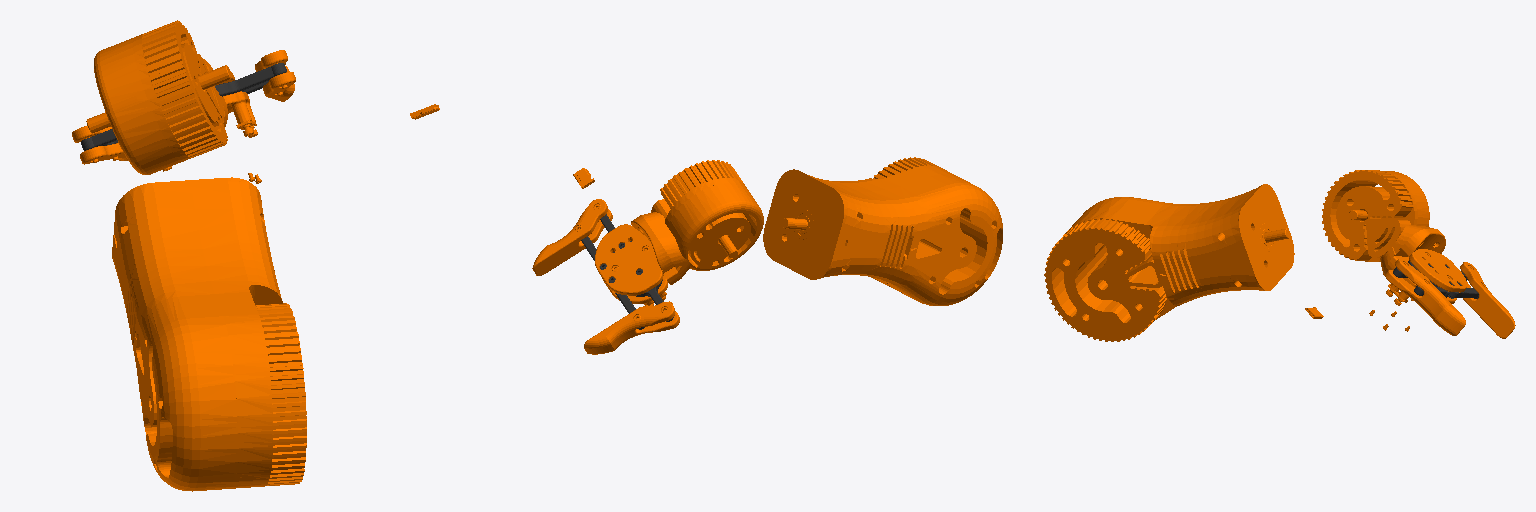
URDF robot description (moveo_urdf):
<?xml version='1.0'?>
<robot name="moveo_urdf">

  <link name="base_link">
    <visual>
      <origin xyz="0 0 0.13" rpy="0 0 0" />
      <geometry>
        <mesh filename="meshes/base_link.obj" />
      </geometry>
      <material name="black_override">
        <color rgba="0.25 0.25 0.25 1"/>
      </material>
    </visual>
    <collision>
      <origin xyz="0 0 0.13" rpy="0 0 0" />
      <geometry>
        <box size="0.30 0.30 0.26" />
      </geometry>
    </collision>
  </link>

  <link name="odom">
    <inertial>
      <origin xyz="0.034155 -0.20591 -0.049641" rpy="0 0 0" />
      <mass value="8.0643" />
      <inertia
        ixx="0.11291"
        ixy="0.00066071"
        ixz="-0.00030472"
        iyy="0.089946"
        iyz="0.011461"
        izz="0.19187" />
    </inertial>
  </link>

  <joint name="odom_joint" type="fixed">
    <origin xyz="0 0 0" rpy="0 0 0" />
    <parent link="base_link" />
    <child link="odom" />
  </joint>

  <link name="Link_1">
    <inertial>
      <origin xyz="4.0186E-05 0.090634 0.00010221" rpy="0 0 0" />
      <mass value="4.2526" />
      <inertia
        ixx="0.0034071"
        ixy="8.9041E-06"
        ixz="1.179E-07"
        iyy="0.018642"
        iyz="-3.6544E-06"
        izz="0.021987" />
    </inertial>
    <visual>
      <origin xyz="0 0 0" rpy="0 0 0" />
      <geometry>
        <mesh filename="meshes/Link_1.obj" />
      </geometry>
      <material name="orange">
        <color rgba="1 0.5 0 1" />
      </material>
    </visual>
    <collision>
      <origin xyz="0 0.09 0" rpy="0 0 0" />
      <geometry>
        <cylinder radius="0.05" length="0.22" />
      </geometry>
    </collision>
  </link>

  <joint name="Joint_1" type="revolute">
    <origin xyz="0 -0.2425 0.13" rpy="1.5708 9.5417E-17 2.7766" />
    <parent link="base_link" />
    <child link="Link_1" />
    <axis xyz="0 1 0" />
    <limit lower="-1.5707" upper="1.5707" effort="5" velocity="1" />
  </joint>

  <link name="Link_2">
    <inertial>
      <origin xyz="2.2815E-05 0.0017616 -0.080002" rpy="0 0 0" />
      <mass value="1.9323" />
      <inertia
        ixx="0.012138"
        ixy="-3.5576E-06"
        ixz="-9.0632E-06"
        iyy="0.011445"
        iyz="0.00014273"
        izz="0.00070271" />
    </inertial>
    <visual>
      <origin xyz="0 0 0" rpy="0 0 0" />
      <geometry>
        <mesh filename="meshes/Link_2.obj" />
      </geometry>
      <material name="black_override">
        <color rgba="0.25 0.25 0.25 1"/>
      </material>
    </visual>
    <collision>
      <origin xyz="0 0 -0.08" rpy="0 0 0" />
      <geometry>
        <box size="0.08 0.08 0.24" />
      </geometry>
    </collision>
  </link>

  <joint name="Joint_2" type="revolute">
    <origin xyz="0 0.18264 0" rpy="-3.1416 0.95134 1.5708" />
    <parent link="Link_1" />
    <child link="Link_2" />
    <axis xyz="0 -1 0" />
    <limit lower="-1.5707" upper="1.5707" effort="5" velocity="1" />
  </joint>

  <link name="Link_3">
    <inertial>
      <origin xyz="0.05095 -0.00039084 -0.00045591" rpy="0 0 0" />
      <mass value="1.1381" />
      <inertia
        ixx="0.00023572"
        ixy="-3.8425E-06"
        ixz="4.1286E-06"
        iyy="0.00029123"
        iyz="-1.0387E-07"
        izz="0.00052457" />
    </inertial>
    <visual>
      <origin xyz="0 0 0" rpy="0 0 0" />
      <geometry>
        <mesh filename="meshes/Link_3.obj" />
      </geometry>
      <material name="orange">
        <color rgba="1 0.5 0 1" />
      </material>
    </visual>
    <collision>
      <origin xyz="0.05 0 0" rpy="0 0 0" />
      <geometry>
        <box size="0.18 0.05 0.05" />
      </geometry>
    </collision>
  </link>

  <joint name="Joint_3" type="revolute">
    <origin xyz="0 0 -0.22112" rpy="-3.1416 0.98126 -3.1416" />
    <parent link="Link_2" />
    <child link="Link_3" />
    <axis xyz="0 -1 0" />
    <limit lower="-1.5707" upper="1.5707" effort="5" velocity="1" />
  </joint>

  <link name="Link_4">
    <inertial>
      <origin xyz="-0.0027417 0.0025097 0.012864" rpy="0 0 0" />
      <mass value="0.62964" />
      <inertia
        ixx="0.0001717"
        ixy="1.3446E-06"
        ixz="8.5164E-06"
        iyy="0.00010506"
        iyz="5.1412E-05"
        izz="7.8944E-05" />
    </inertial>
    <visual>
      <origin xyz="0 0 0" rpy="0 0 0" />
      <geometry>
        <mesh filename="meshes/Link_4.obj" />
      </geometry>
      <material name="black_override">
        <color rgba="0.25 0.25 0.25 1"/>
      </material>
    </visual>
    <collision>
      <origin xyz="0 0 0.01" rpy="0 0 0" />
      <geometry>
        <box size="0.08 0.05 0.08" />
      </geometry>
    </collision>
  </link>

  <joint name="Joint_4" type="revolute">
    <origin xyz="0.16988 -0.00099213 0" rpy="3.1416 -1.2279 1.5708" />
    <parent link="Link_3" />
    <child link="Link_4" />
    <axis xyz="0.010353 -0.99993 -0.0059382" />
    <limit lower="-1.5707" upper="1.5707" effort="5" velocity="1" />
  </joint>

  <link name="Link_5">
    <inertial>
      <origin xyz="-0.011366 0.00012239 0.0078967" rpy="0 0 0" />
      <mass value="0.19875" />
      <inertia
        ixx="6.2676E-05"
        ixy="4.2551E-06"
        ixz="4.0215E-05"
        iyy="9.7792E-05"
        iyz="8.5888E-07"
        izz="9.5807E-05" />
    </inertial>
    <visual>
      <origin xyz="0 0 0" rpy="0 0 0" />
      <geometry>
        <mesh filename="meshes/Link_5.obj" />
      </geometry>
      <material name="orange">
        <color rgba="1 0.5 0 1" />
      </material>
    </visual>
    <collision>
      <origin xyz="0 0 0.01" rpy="0 0 0" />
      <geometry>
        <box size="0.10 0.05 0.05" />
      </geometry>
    </collision>
  </link>

  <joint name="Joint_5" type="revolute">
    <origin xyz="-0.0021346 0.053041 0.0016936" rpy="-1.5639 -0.091135 -0.00062919" />
    <parent link="Link_4" />
    <child link="Link_5" />
    <axis xyz="0 1 0" />
    <limit lower="-1.5707" upper="1.5707" effort="5" velocity="1" />
  </joint>

  <link name="Gripper_Servo_Gear">
    <inertial>
      <origin xyz="-0.0063957 -0.0033021 -0.00082714" rpy="0 0 0" />
      <mass value="0.0048997" />
      <inertia
        ixx="2.0097E-09"
        ixy="-3.0673E-09"
        ixz="-6.3297E-10"
        iyy="4.9761E-09"
        iyz="-3.9668E-10"
        izz="6.8221E-09" />
    </inertial>
    <visual>
      <origin xyz="0 0 0" rpy="0 0 0" />
      <geometry>
        <mesh filename="meshes/Gripper_Servo_Gear.obj" />
      </geometry>
      <material name="black_override">
        <color rgba="0.25 0.25 0.25 1"/>
      </material>
    </visual>
    <collision>
      <origin xyz="0 0 0" rpy="0 0 0" />
      <geometry>
        <box size="0.03 0.03 0.02" />
      </geometry>
    </collision>
  </link>

  <joint name="Gripper_Servo_Gear_Joint" type="revolute">
    <origin xyz="-0.05013 0.01413 0.041516" rpy="0.9321 0.032705 -1.5268" />
    <parent link="Link_5" />
    <child link="Gripper_Servo_Gear" />
    <axis xyz="0 1 0" />
    <limit lower="0" upper="0.85" effort="5" velocity="1" />
  </joint>

  <link name="Tip_Gripper_Servo">
    <inertial>
      <origin xyz="0.028047 -0.000564 0.0049632" rpy="0 0 0" />
      <mass value="0.010676" />
      <inertia
        ixx="8.9609E-09"
        ixy="6.3808E-09"
        ixz="-2.6788E-08"
        iyy="1.7457E-07"
        iyz="7.7239E-10"
        izz="1.7361E-07" />
    </inertial>
    <visual>
      <origin xyz="0 0 0" rpy="0 0 0" />
      <geometry>
        <mesh filename="meshes/Tip_Gripper_Servo.obj" />
      </geometry>
      <material name="orange">
        <color rgba="1 0.5 0 1" />
      </material>
    </visual>
    <collision>
      <origin xyz="0.03 0 0.005" rpy="0 0 0" />
      <geometry>
        <box size="0.06 0.012 0.02" />
      </geometry>
    </collision>
  </link>

  <joint name="Tip_Gripper_Servo_Joint" type="revolute">
    <origin xyz="-0.047278677 0.00029943856 -0.019899708" rpy="-3.1415187 -1.4881423 -6.4581482E-05" />
    <parent link="Pivot_Arm_Gripper_Servo" />
    <child link="Tip_Gripper_Servo" />
    <axis xyz="0 1 0" />
    <limit lower="0" upper="0.85" effort="5" velocity="1" />
    <mimic joint="Pivot_Arm_Gripper_Servo_Joint" multiplier="1" offset="0" />
  </joint>

  <link name="Gripper_Idol_Gear">
    <inertial>
      <origin xyz="-0.0061853 0.00086502 -3.5867E-05" rpy="0 0 0" />
      <mass value="0.0051273" />
      <inertia
        ixx="2.3312E-09"
        ixy="1.1098E-09"
        ixz="-5.1524E-11"
        iyy="8.8855E-09"
        iyz="6.4357E-12"
        izz="1.1216E-08" />
    </inertial>
    <visual>
      <origin xyz="0 0 0" rpy="0 0 0" />
      <geometry>
        <mesh filename="meshes/Gripper_Idol_Gear.obj" />
      </geometry>
      <material name="black_override">
        <color rgba="0.25 0.25 0.25 1"/>
      </material>
    </visual>
    <collision>
      <origin xyz="0 0 0" rpy="0 0 0" />
      <geometry>
        <box size="0.03 0.03 0.02" />
      </geometry>
    </collision>
  </link>

  <joint name="Gripper_Idol_Gear_Joint" type="revolute">
    <origin xyz="-0.052696 -0.01387 0.038065" rpy="2.2091 -0.040996 1.626" />
    <parent link="Link_5" />
    <child link="Gripper_Idol_Gear" />
    <axis xyz="0 1 0" />
    <limit lower="-0.85" upper="0" effort="5" velocity="1" />
    <mimic joint="Gripper_Servo_Gear_Joint" multiplier="-1" offset="0" />
  </joint>

  <link name="Tip_Gripper_Idol">
    <inertial>
      <origin xyz="0.0059646 0.00098916 0.027851" rpy="0 0 0" />
      <mass value="0.010676" />
      <inertia
        ixx="1.6895E-07"
        ixy="-1.6878E-09"
        ixz="-3.8254E-08"
        iyy="1.7457E-07"
        iyz="-6.203E-09"
        izz="1.3622E-08" />
    </inertial>
    <visual>
      <origin xyz="0 0 0" rpy="0 0 0" />
      <geometry>
        <mesh filename="meshes/Tip_Gripper_Idol.obj" />
      </geometry>
      <material name="orange">
        <color rgba="1 0.5 0 1" />
      </material>
    </visual>
    <collision>
      <origin xyz="0.03 0 0.005" rpy="0 0 0" />
      <geometry>
        <box size="0.06 0.012 0.02" />
      </geometry>
    </collision>
  </link>

  <joint name="Tip_Gripper_Idol_Joint" type="revolute">
    <origin xyz="0.047000399 -0.0002497656 -0.020000514" rpy="-1.4354494E-05 -0.45484816 1.5077933E-05" />
    <parent link="Pivot_Arm_Gripper_Idol" />
    <child link="Tip_Gripper_Idol" />
    <axis xyz="0 1 0" />
    <limit lower="0" upper="0.85" effort="5" velocity="1" />
    <mimic joint="Pivot_Arm_Gripper_Idol_Joint" multiplier="-1" offset="0" />
  </joint>

  <link name="Pivot_Arm_Gripper_Servo">
    <inertial>
      <origin xyz="-0.017611 0.00080352 -1.2115E-11" rpy="0 0 0" />
      <mass value="0.0018597" />
      <inertia
        ixx="2.3199E-09"
        ixy="3.1597E-09"
        ixz="3.9677E-16"
        iyy="7.8256E-08"
        iyz="-2.0327E-16"
        izz="8.0576E-08" />
    </inertial>
    <visual>
      <origin xyz="0 0 0" rpy="0 0 0" />
      <geometry>
        <mesh filename="meshes/Pivot_Arm_Gripper_Servo.obj" />
      </geometry>
      <material name="black_override">
        <color rgba="0.25 0.25 0.25 1"/>
      </material>
    </visual>
    <collision>
      <origin xyz="0 0 0" rpy="0 0 0" />
      <geometry>
        <box size="0.05 0.01 0.01" />
      </geometry>
    </collision>
  </link>

  <joint name="Pivot_Arm_Gripper_Servo_Joint" type="revolute">
    <origin xyz="-0.068745 0.00713 0.05" rpy="0.93142 -0.0083007 -1.582" />
    <parent link="Link_5" />
    <child link="Pivot_Arm_Gripper_Servo" />
    <axis xyz="0 1 0" />
    <limit lower="-1.5707" upper="1.5707" effort="5" velocity="1" />
    <mimic joint="Gripper_Servo_Gear_Joint" multiplier="1" offset="0" />
  </joint>

  <link name="Pivot_Arm_Gripper_Idol">
    <inertial>
      <origin xyz="0.017611 0.00067852 -1.3978E-11" rpy="0 0 0" />
      <mass value="0.0018597" />
      <inertia
        ixx="2.3199E-09"
        ixy="-3.1597E-09"
        ixz="-4.5779E-16"
        iyy="7.8256E-08"
        iyz="-2.26E-16"
        izz="8.0576E-08" />
    </inertial>
    <visual>
      <origin xyz="0 0 0" rpy="0 0 0" />
      <geometry>
        <mesh filename="meshes/Pivot_Arm_Gripper_Idol.obj" />
      </geometry>
      <material name="black_override">
        <color rgba="0.25 0.25 0.25 1" />
      </material>
    </visual>
    <collision>
      <origin xyz="0 0 0" rpy="0 0 0" />
      <geometry>
        <box size="0.05 0.01 0.01" />
      </geometry>
    </collision>
  </link>

  <joint name="Pivot_Arm_Gripper_Idol_Joint" type="revolute">
    <origin xyz="-0.06867 -0.00687 0.0501" rpy="0.93138 1.7645E-12 -1.5708" />
    <parent link="Link_5" />
    <child link="Pivot_Arm_Gripper_Idol" />
    <axis xyz="0 1 0" />
    <limit lower="-1.5707" upper="1.5707" effort="5" velocity="1" />
    <mimic joint="Gripper_Idol_Gear_Joint" multiplier="1" offset="0" />
  </joint>

</robot>

--- Facts derived from the render (not from the file) ---
Views: 3 orthographic renders of the robot side by side, from view 1: azimuth 30°, elevation 25°; view 2: azimuth 150°, elevation 25°; view 3: azimuth 270°, elevation 25°.
Model moveo_urdf with 13 links and 12 joints (11 revolute, 1 fixed), rooted at base_link, posed every joint at zero.
Links seen in each view (by area): view 1: Link_3, Link_5, Tip_Gripper_Servo, Tip_Gripper_Idol, Gripper_Servo_Gear; view 2: Link_3, Link_5, Tip_Gripper_Idol, Tip_Gripper_Servo; view 3: Link_3, Link_5, Tip_Gripper_Servo, Tip_Gripper_Idol.
Link boxes in pixels (<box>): Link_3: <box>112,177,306,491</box>; Link_5: <box>86,20,439,183</box>; Tip_Gripper_Servo: <box>255,50,295,101</box>; Tip_Gripper_Idol: <box>72,126,127,164</box>; Gripper_Servo_Gear: <box>215,63,286,96</box>; Link_3: <box>763,157,1002,305</box>; Link_5: <box>573,160,763,305</box>; Tip_Gripper_Idol: <box>584,302,679,354</box>; Tip_Gripper_Servo: <box>532,199,612,275</box>; Link_3: <box>1044,184,1294,341</box>; Link_5: <box>1305,170,1466,331</box>; Tip_Gripper_Servo: <box>1385,258,1465,335</box>; Tip_Gripper_Idol: <box>1460,262,1515,338</box>.
Bounding box of the posed robot: 0.2637 × 0.359 × 0.1656 m (x, y, z).
Meshes: 12 distinct files referenced, 8 mesh visuals loaded (8 OBJ); not drawn: 4 (reference not matched to a file when rendering).
